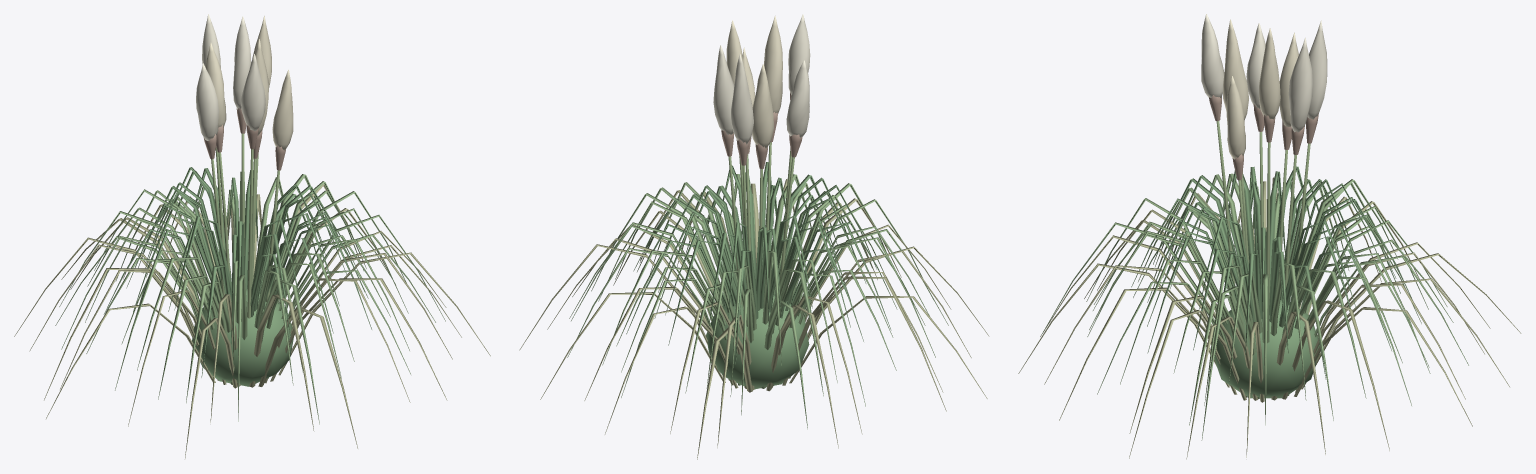
Rendered from pampas_cortadera_2.glb.
3 renders of one model, left to right at view 1: azimuth 30°, elevation 25°; view 2: azimuth 150°, elevation 25°; view 3: azimuth 270°, elevation 25°, orthographic. The views are drawn at different scales.
Parts seen in each view (by area): view 1: CortBladeMid, CortBladeDeep, CortBladeDry, CortPlumeSilk, CortPlumeGold, CortStalks, CortSheaths; view 2: CortBladeDeep, CortBladeMid, CortBladeDry, CortPlumeSilk, CortPlumeGold, CortStalks, CortSheaths; view 3: CortBladeDeep, CortBladeMid, CortBladeDry, CortPlumeSilk, CortPlumeGold, CortStalks, CortSheaths.
Boxes of the visible parts, left/top/right/bottom form: CortBladeMid: left=55, top=171, right=445, bottom=424; CortBladeDeep: left=103, top=167, right=371, bottom=386; CortBladeDry: left=14, top=184, right=490, bottom=458; CortPlumeSilk: left=196, top=14, right=265, bottom=140; CortPlumeGold: left=205, top=16, right=293, bottom=150; CortStalks: left=211, top=133, right=280, bottom=318; CortSheaths: left=203, top=108, right=285, bottom=170; CortBladeDeep: left=626, top=162, right=897, bottom=389; CortBladeMid: left=567, top=174, right=948, bottom=429; CortBladeDry: left=519, top=179, right=989, bottom=459; CortPlumeSilk: left=713, top=14, right=810, bottom=144; CortPlumeGold: left=726, top=16, right=782, bottom=148; CortStalks: left=728, top=142, right=794, bottom=304; CortSheaths: left=721, top=92, right=802, bottom=169; CortBladeDeep: left=1131, top=166, right=1412, bottom=398; CortBladeMid: left=1041, top=173, right=1468, bottom=440; CortBladeDry: left=1018, top=177, right=1521, bottom=459; CortPlumeSilk: left=1201, top=14, right=1327, bottom=132; CortPlumeGold: left=1223, top=19, right=1298, bottom=159; CortStalks: left=1216, top=121, right=1310, bottom=304; CortSheaths: left=1209, top=95, right=1318, bottom=180.
Size of the model in its own units: 2.41 by 1.99 by 2.44.
